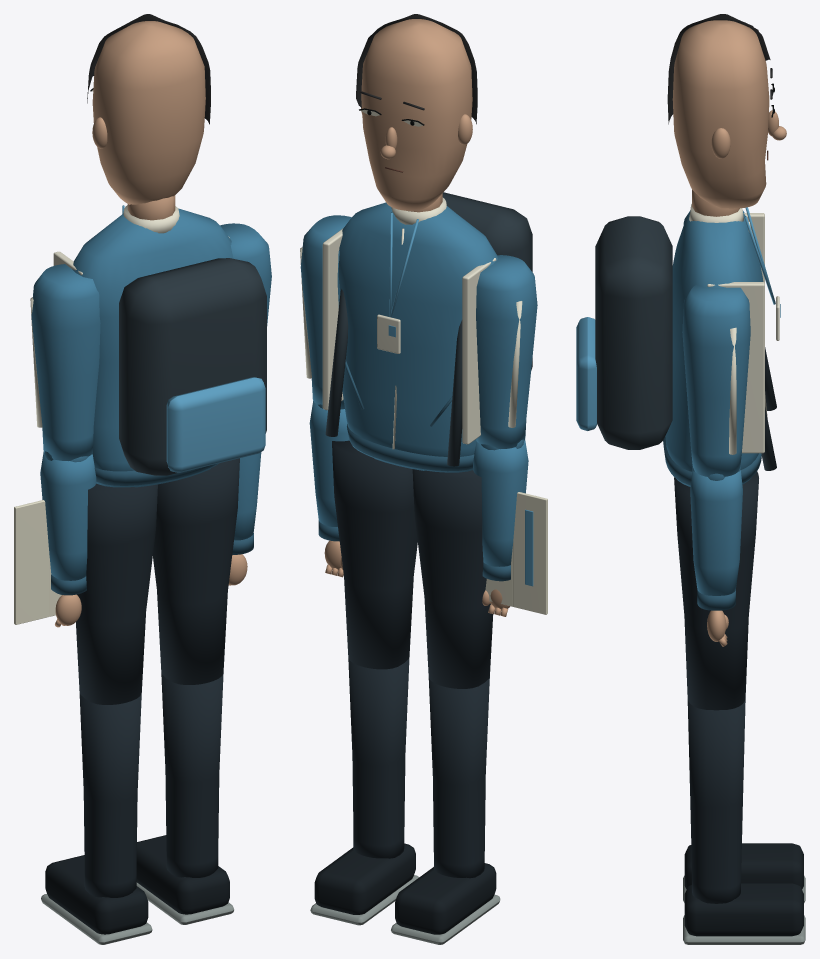
The model's file is npc_student.glb.
3 renders of one model, left to right at view 1: azimuth 30°, elevation 25°; view 2: azimuth 150°, elevation 25°; view 3: azimuth 270°, elevation 25°, orthographic.
Visible parts, largest first — view 1: Backpack, AdultFace, TrouserThigh.001, TrouserThigh, QuietClothTorso, Sleeve, Knee.001, Knee, BackpackFrontPocket, ElbowTransition, FoldedMap, OrdinaryShoe (+11 smaller); view 2: QuietClothTorso, AdultFace, TrouserThigh.001, TrouserThigh, Knee.001, Knee, Sleeve, IDCard, Backpack, ElbowTransition, OrdinaryShoe.001, OrdinaryShoe (+11 smaller); view 3: Backpack, AdultFace, Sleeve.001, Knee.001, TrouserThigh.001, QuietClothTorso, ElbowTransition.001, OrdinaryShoe.001, IDCard, OrdinaryShoe, BackpackFrontPocket, ShoeSole.001 (+6 smaller).
Boxes of the visible parts, x1=… form: Backpack: x1=119, y1=258, x2=266, y2=475; AdultFace: x1=92, y1=21, x2=205, y2=204; TrouserThigh.001: x1=153, y1=458, x2=239, y2=684; TrouserThigh: x1=76, y1=483, x2=157, y2=704; QuietClothTorso: x1=72, y1=208, x2=232, y2=487; Sleeve: x1=31, y1=264, x2=100, y2=460; Knee.001: x1=161, y1=672, x2=223, y2=877; Knee: x1=79, y1=693, x2=141, y2=897; BackpackFrontPocket: x1=122, y1=205, x2=265, y2=472; ElbowTransition: x1=40, y1=451, x2=96, y2=580; FoldedMap: x1=14, y1=500, x2=61, y2=624; OrdinaryShoe: x1=45, y1=855, x2=148, y2=934; QuietClothTorso: x1=338, y1=202, x2=497, y2=472; AdultFace: x1=361, y1=19, x2=472, y2=210; TrouserThigh.001: x1=332, y1=440, x2=417, y2=669; TrouserThigh: x1=412, y1=469, x2=493, y2=688; Knee.001: x1=348, y1=656, x2=409, y2=858; Knee: x1=428, y1=676, x2=489, y2=878; Sleeve: x1=476, y1=255, x2=537, y2=448; IDCard: x1=322, y1=197, x2=496, y2=449; Backpack: x1=325, y1=192, x2=532, y2=466; ElbowTransition: x1=473, y1=439, x2=528, y2=566; OrdinaryShoe.001: x1=314, y1=843, x2=415, y2=914; OrdinaryShoe: x1=395, y1=863, x2=496, y2=934; Backpack: x1=595, y1=216, x2=776, y2=470; AdultFace: x1=672, y1=20, x2=786, y2=208; Sleeve.001: x1=682, y1=285, x2=750, y2=476; Knee.001: x1=687, y1=698, x2=745, y2=903; TrouserThigh.001: x1=674, y1=472, x2=758, y2=710; QuietClothTorso: x1=665, y1=212, x2=763, y2=486; ElbowTransition.001: x1=690, y1=464, x2=742, y2=595; OrdinaryShoe.001: x1=684, y1=883, x2=803, y2=936; IDCard: x1=689, y1=204, x2=779, y2=453; OrdinaryShoe: x1=684, y1=843, x2=803, y2=889; BackpackFrontPocket: x1=576, y1=207, x2=780, y2=430; ShoeSole.001: x1=683, y1=915, x2=805, y2=944.
Size of the model in its own units: 0.4425 by 1.54 by 0.3555.
